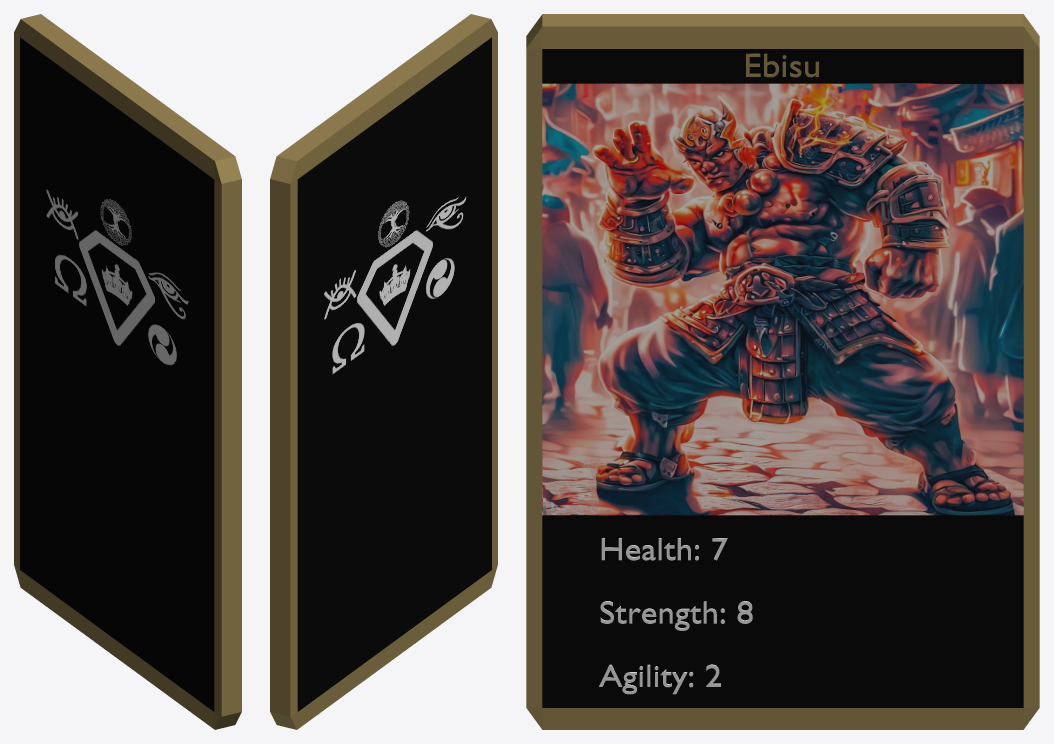
The model's file is Ebisu.fbx.
3 renders of one model, left to right at view 1: azimuth 30°, elevation 25°; view 2: azimuth 150°, elevation 25°; view 3: azimuth 270°, elevation 25°, orthographic. The views are drawn at different scales.
Parts seen in each view (by area): view 1: Ebisu; view 2: Ebisu; view 3: Ebisu.
Part boxes in pixels (left/top/right/bottom): Ebisu: left=14, top=14, right=241, bottom=729; Ebisu: left=270, top=14, right=497, bottom=729; Ebisu: left=526, top=14, right=1039, bottom=729.
Size of the model in its own units: 20.45 by 482 by 319.
5 materials, 2 textured.
